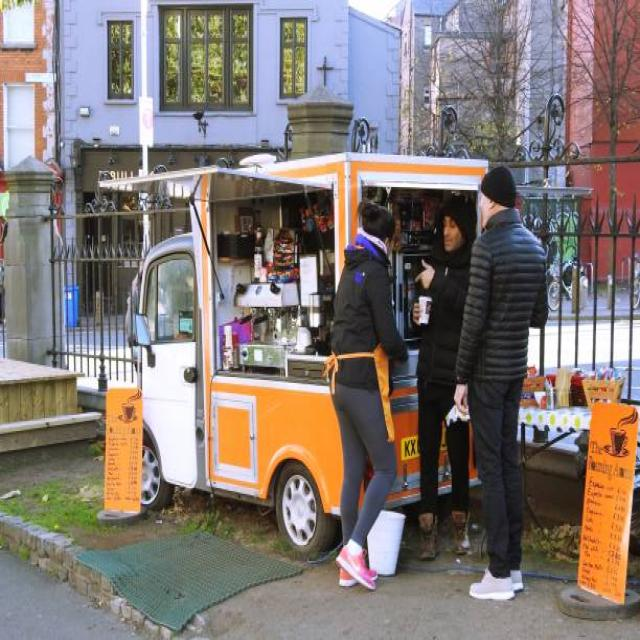Emperan: (88, 139, 503, 544)
